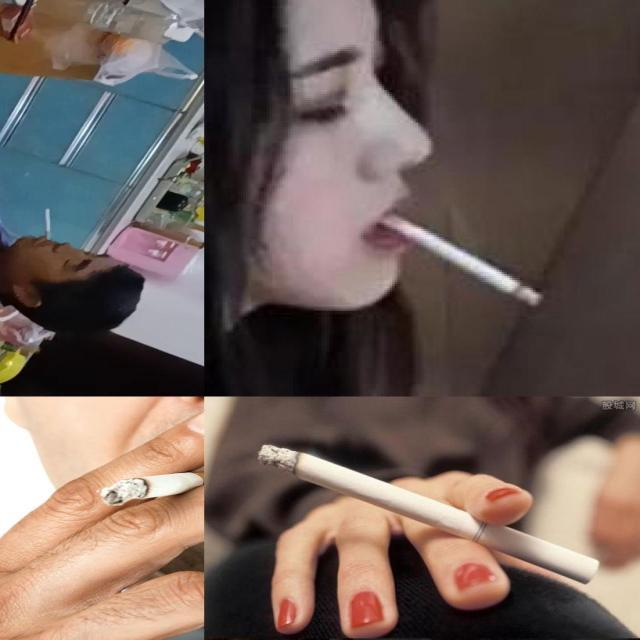smoking: (258, 444, 600, 584), (350, 200, 562, 315), (95, 460, 204, 504), (46, 208, 50, 240)
